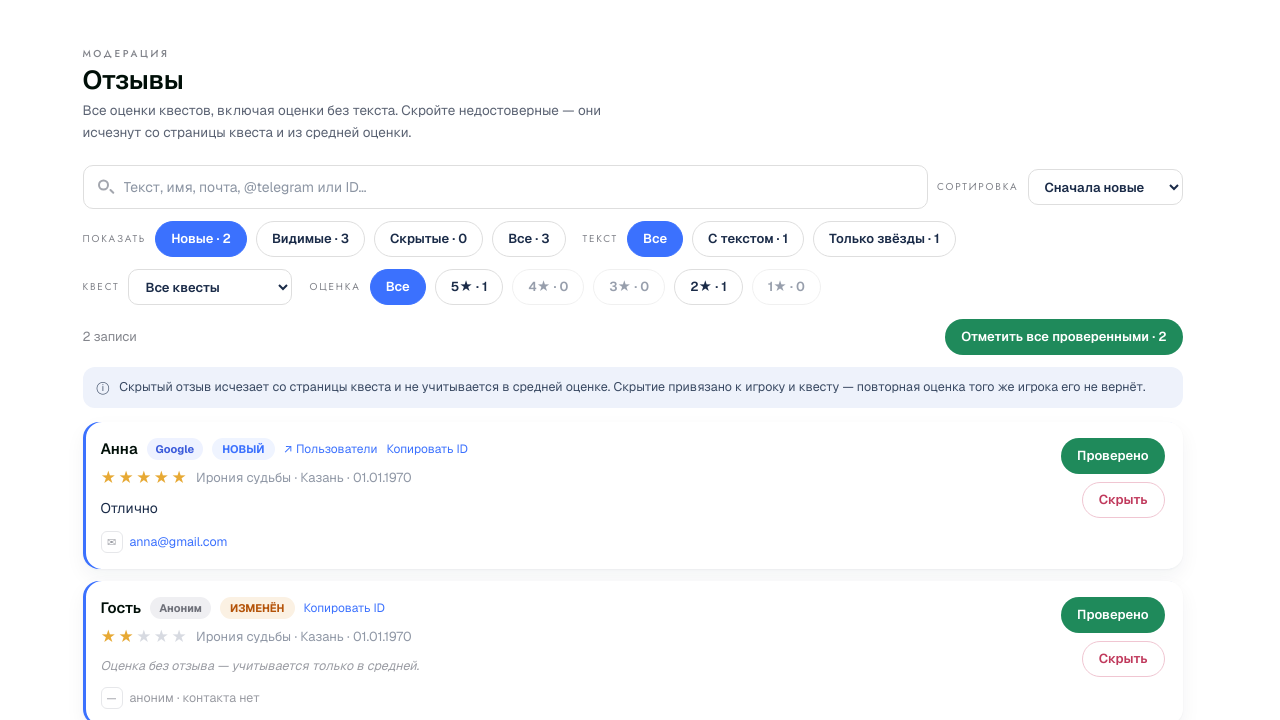
AdminReviewsPage «Проверено» › opens on «Новые» while anything waits and checks a review at the version shown
Expected: the text "Отлично" is shown, [100,499,158,517]
Expected: the text "НОВЫЙ" is shown, [212,438,275,460]
Step 1. Click the button "Проверено" in the row of "↗ Пользователи" → x=1113, y=456, box [1061,438,1164,474]
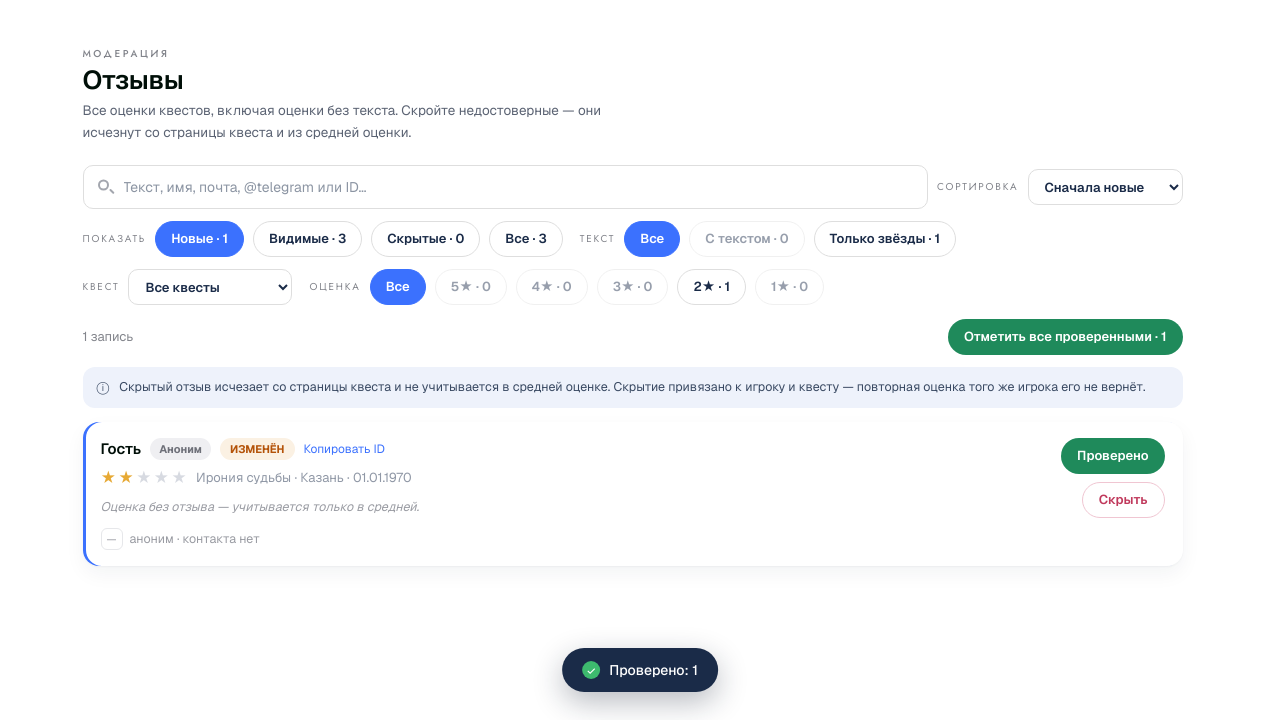
Expected: the button "Новые · 1" is shown, [155,221,244,257]
Expected: the text "Проверено: 1" is shown, [609,661,698,679]
